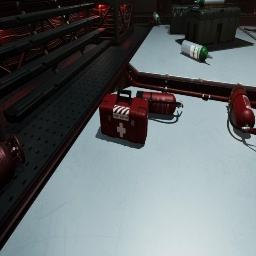0: (181, 40, 213, 62), (194, 0, 225, 8), (153, 12, 161, 25)
FireExtinguisher ]: (227, 85, 256, 135), (136, 90, 183, 115), (178, 108, 179, 108)
FirstAidBox ,: (99, 89, 149, 144)
NitrogenTank ,: (0, 134, 25, 191)
